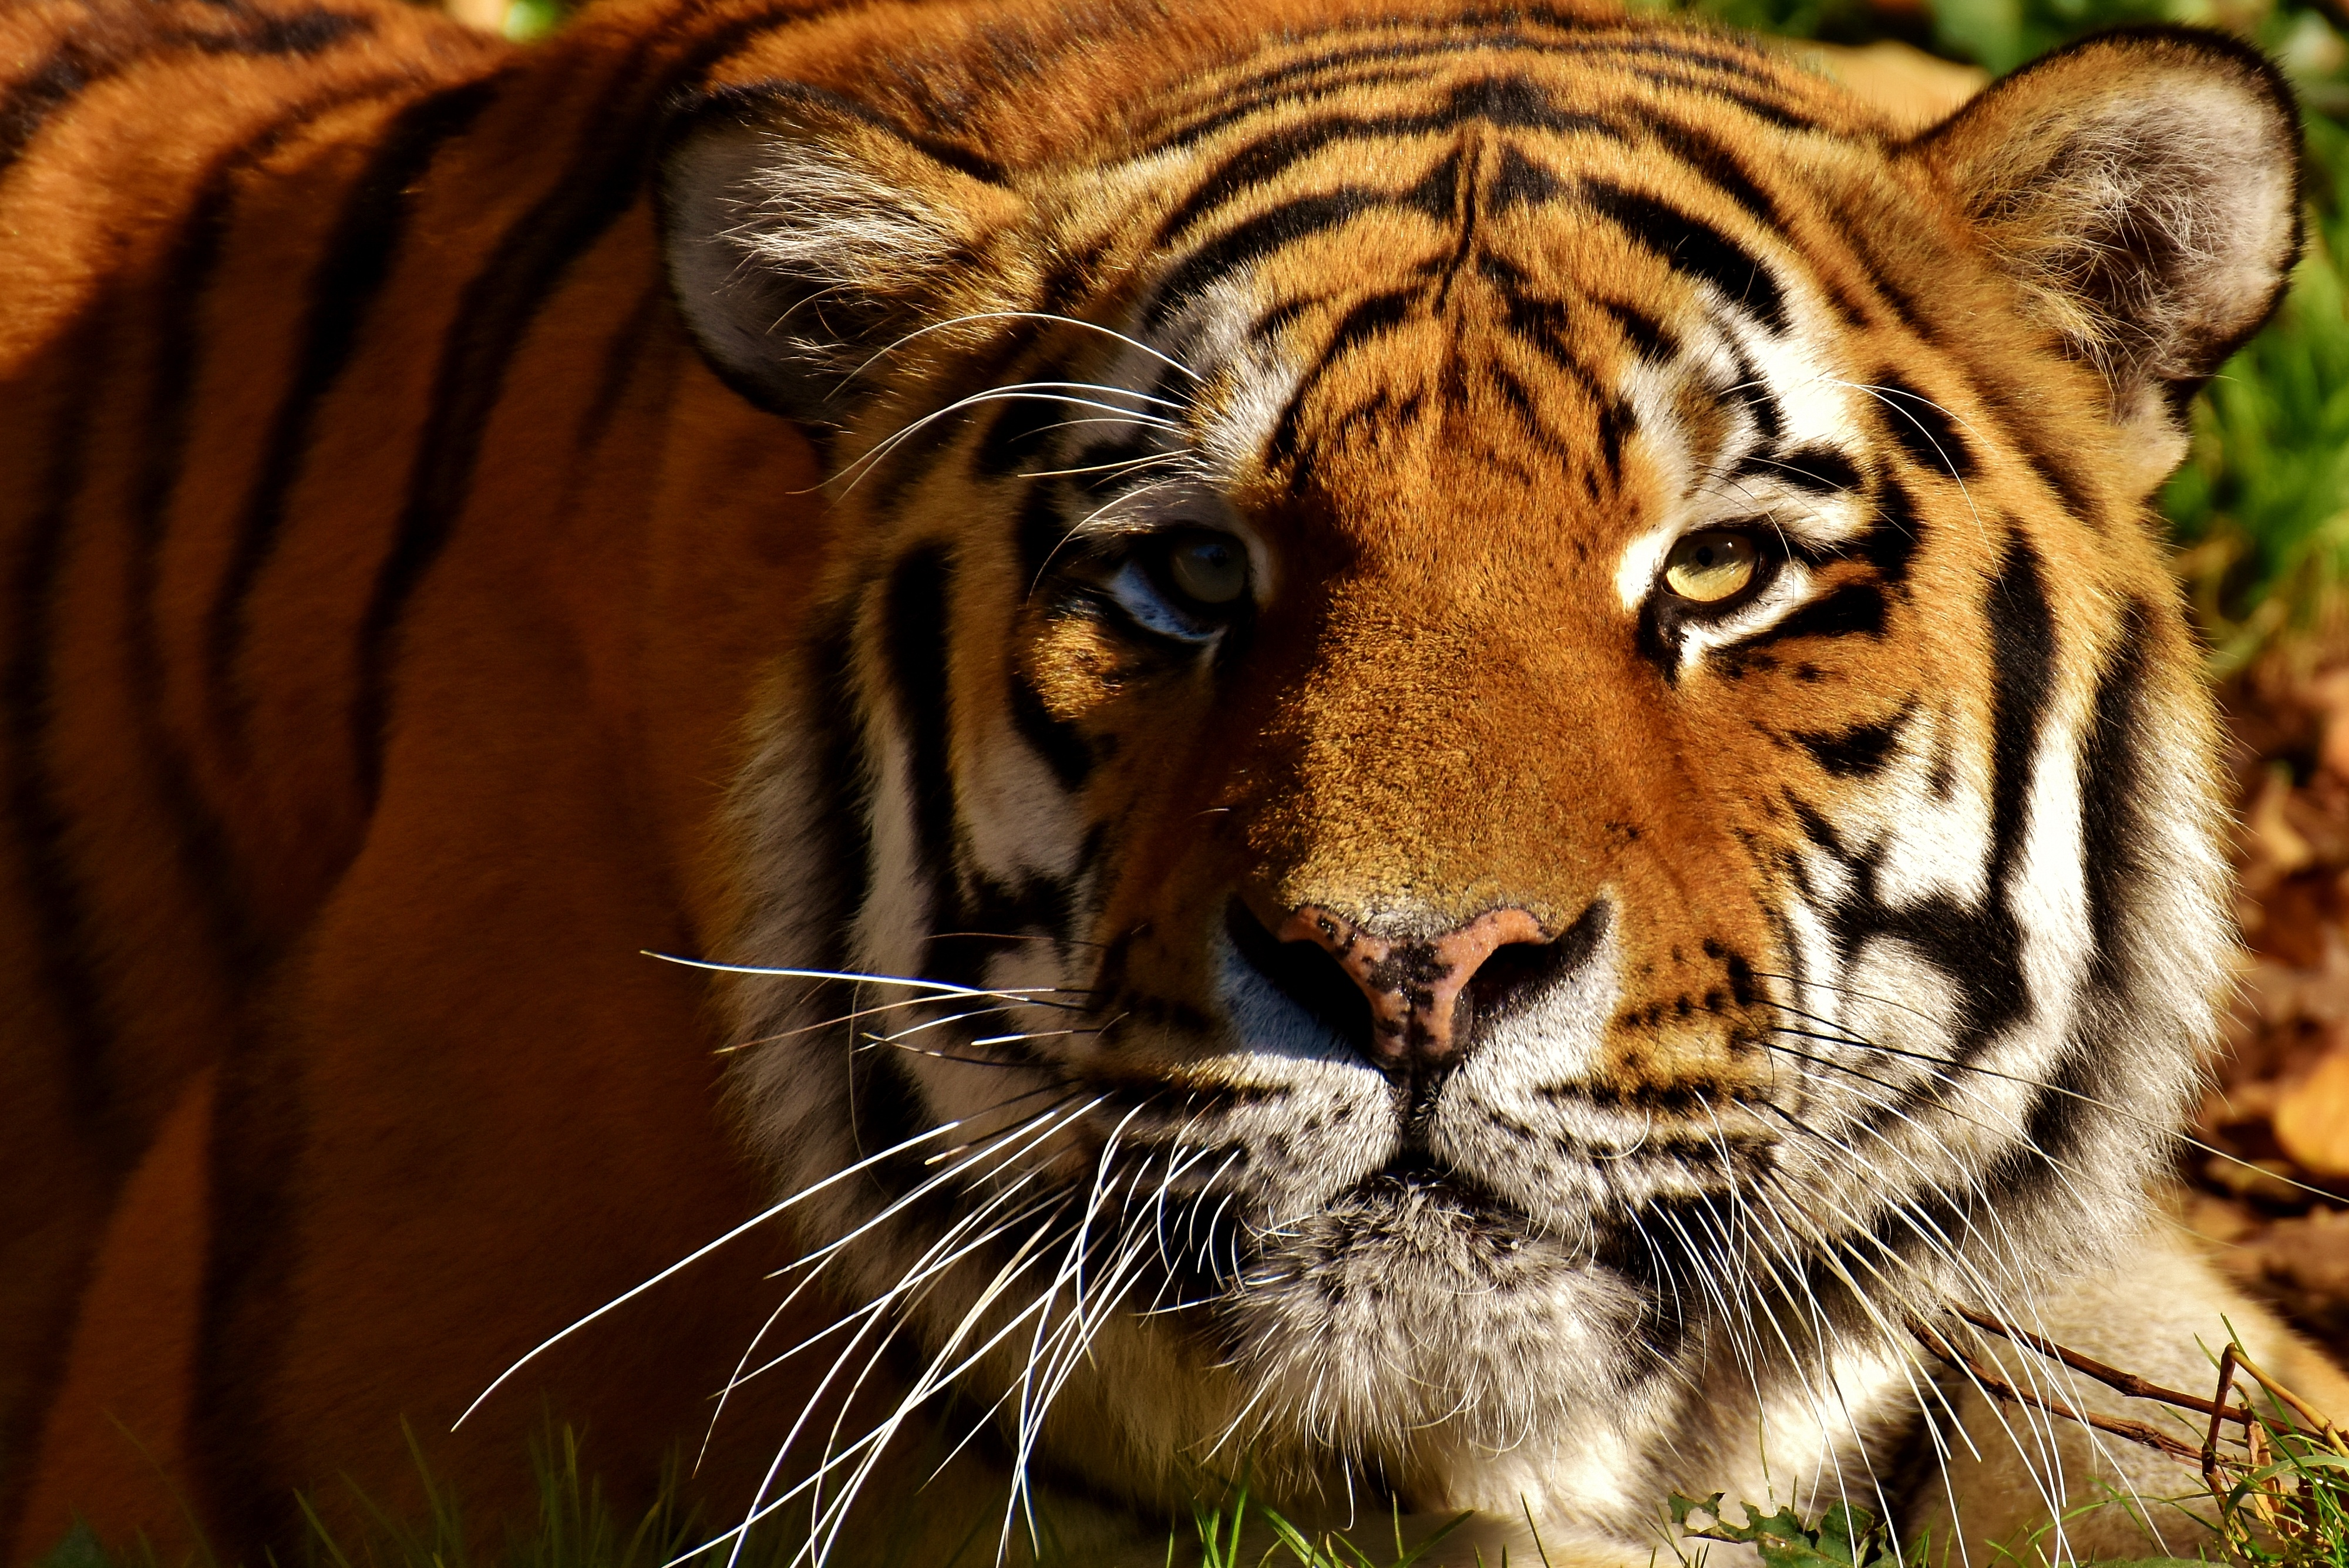tiger: (142, 54, 2291, 1494)
